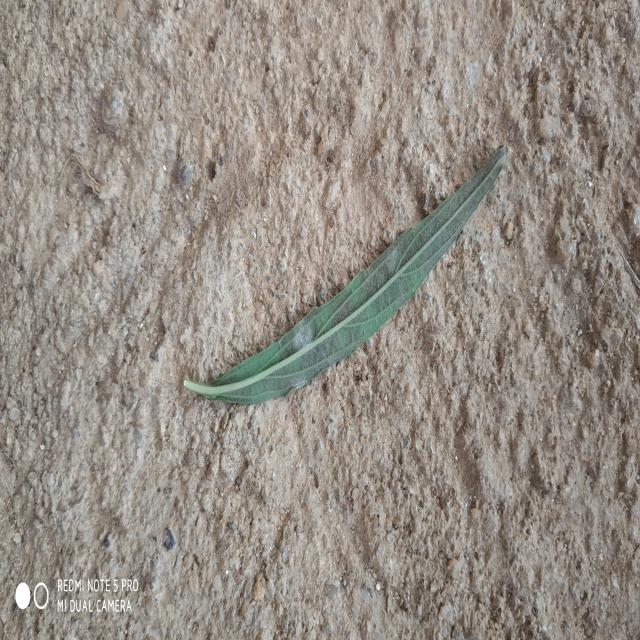defectedthambe: (269, 289, 355, 396)
thambe: (184, 147, 506, 404)
